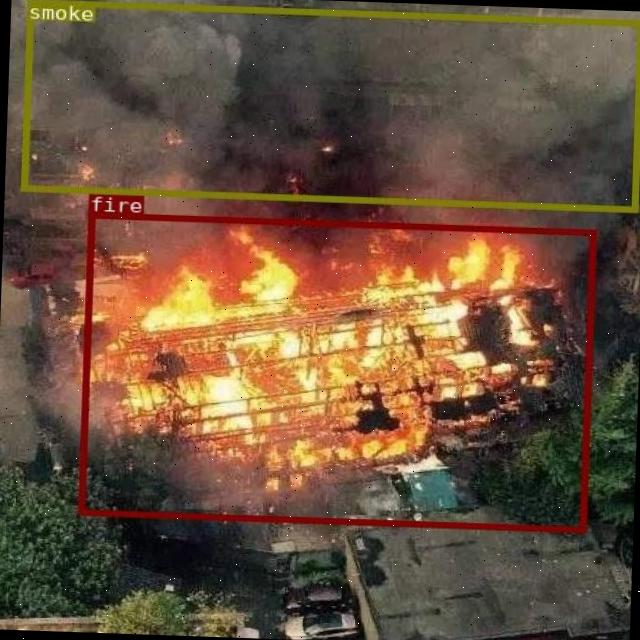fire: (76, 210, 595, 530)
smoke: (19, 0, 640, 211)
